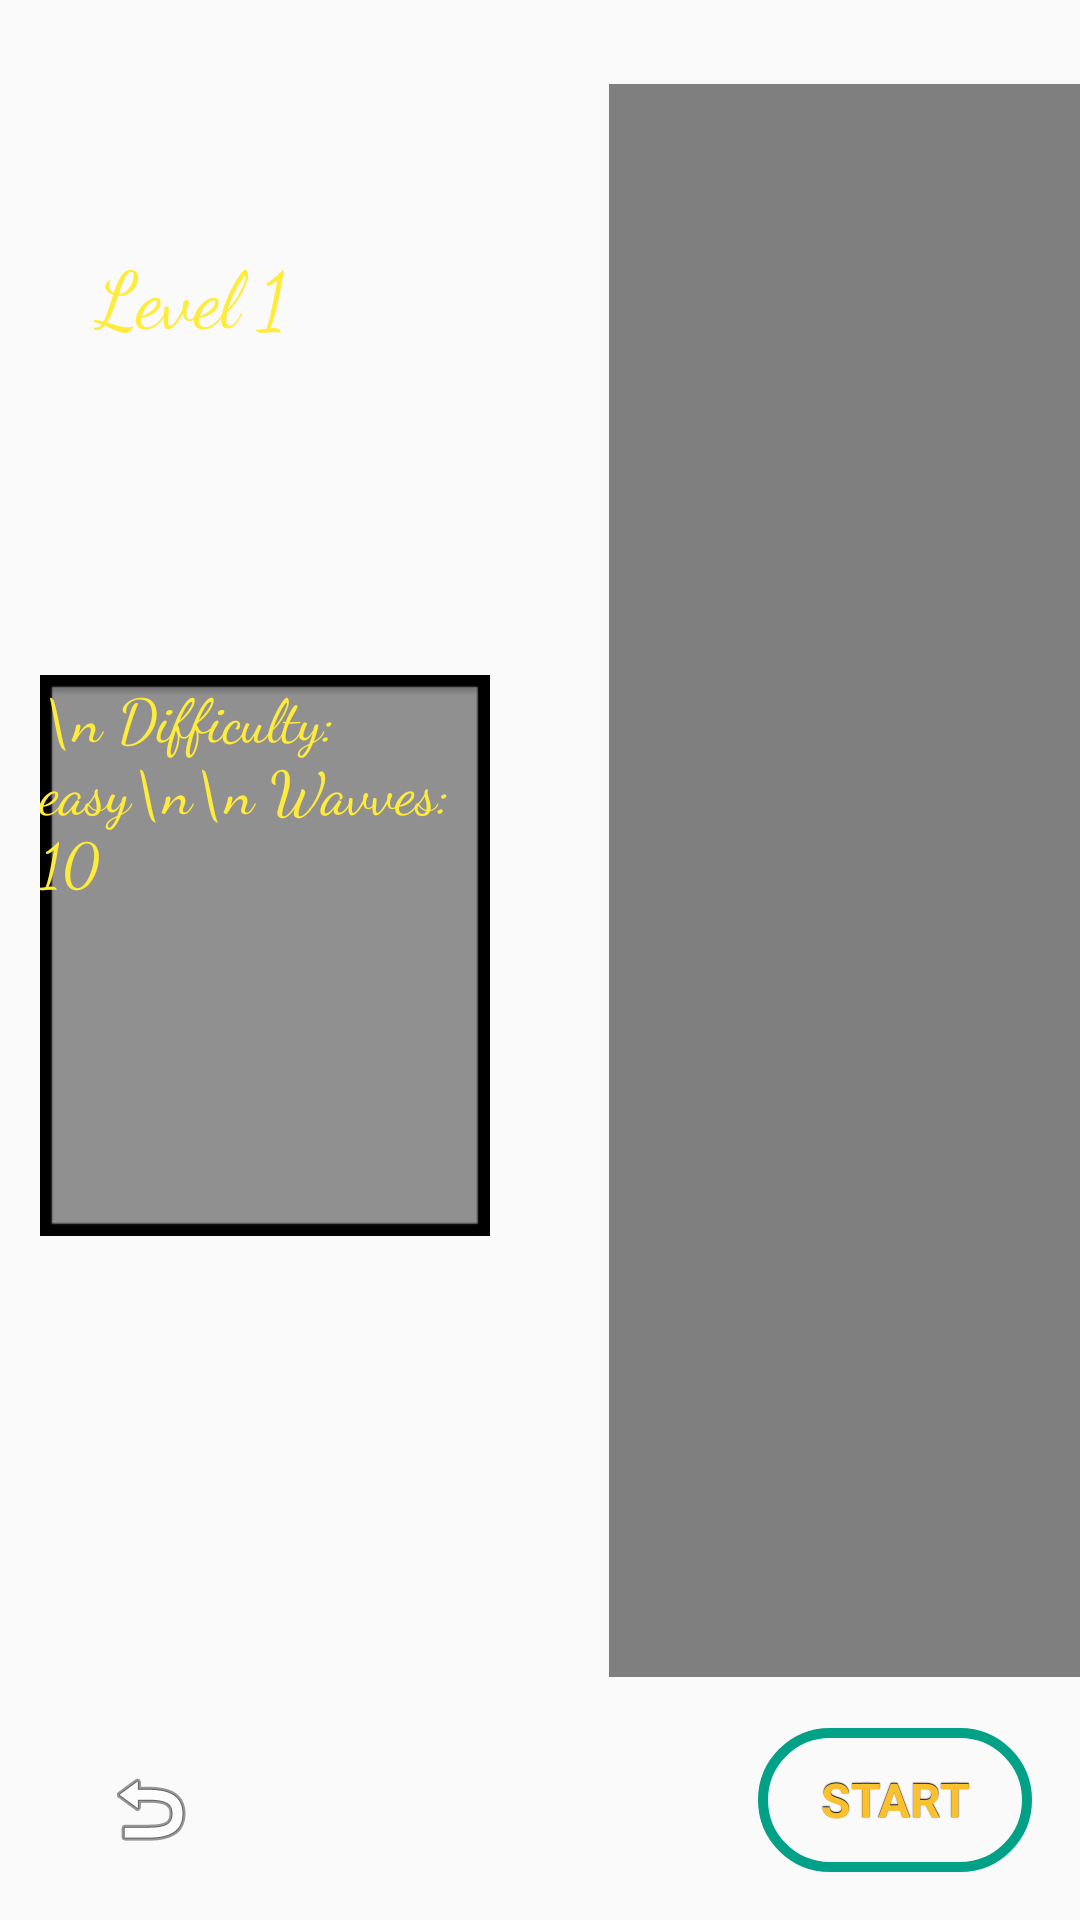

Screen size 1080*1920. Icon name, then its box in pixels as detection(x1, y1, x2, y2):
revert: detection(117, 1778, 186, 1841)
